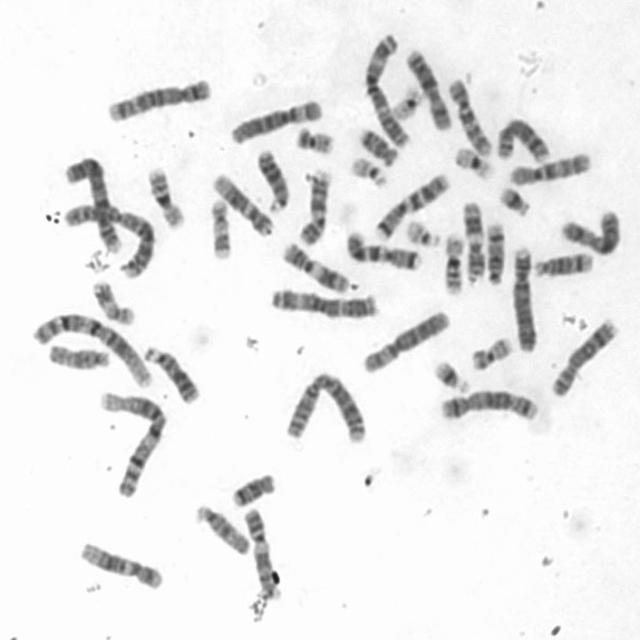A1: (28, 308, 154, 391), (94, 387, 169, 500)
A2: (61, 200, 157, 280), (280, 368, 369, 445)
A3: (360, 30, 410, 148), (266, 284, 380, 321)
B4: (61, 152, 123, 255), (508, 242, 538, 353)
B5: (104, 74, 214, 124), (437, 386, 540, 424)
C10: (445, 74, 493, 157), (504, 148, 593, 188)
C11: (278, 239, 351, 296), (460, 198, 486, 284)
C12: (76, 538, 165, 591), (208, 170, 276, 238)
C6: (358, 307, 452, 376), (226, 96, 324, 145)
C7: (370, 170, 451, 242), (342, 228, 422, 271)
C8: (547, 316, 621, 399), (492, 115, 552, 163)
C9: (242, 504, 280, 598), (294, 165, 334, 247)
D13: (142, 342, 202, 405), (254, 146, 290, 213)
D14: (530, 248, 596, 280), (482, 221, 507, 286)
D15: (192, 501, 251, 555), (44, 341, 112, 372)
E16: (144, 163, 186, 230), (440, 230, 467, 296)
E17: (89, 277, 135, 326), (208, 196, 232, 261)
E18: (355, 123, 399, 167), (228, 469, 276, 509)
F19: (451, 143, 496, 181), (389, 82, 425, 122)
F20: (469, 333, 514, 372), (292, 122, 334, 156)
G21: (431, 356, 472, 394), (496, 182, 533, 218)
G22: (348, 153, 390, 189), (404, 216, 442, 248)
X: (404, 46, 454, 132), (556, 206, 622, 256)
